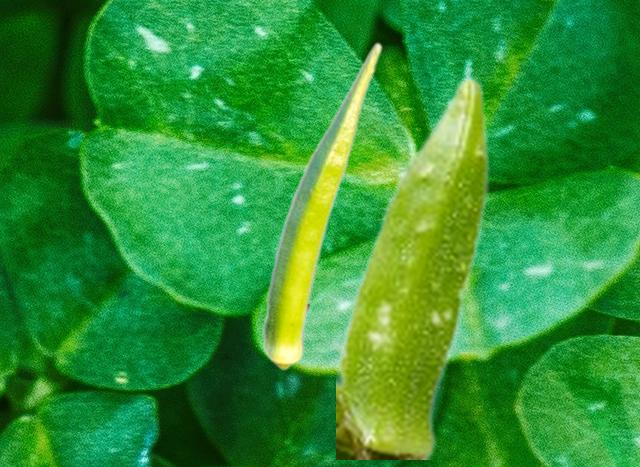okra: (336, 73, 490, 458), (262, 41, 382, 370)
